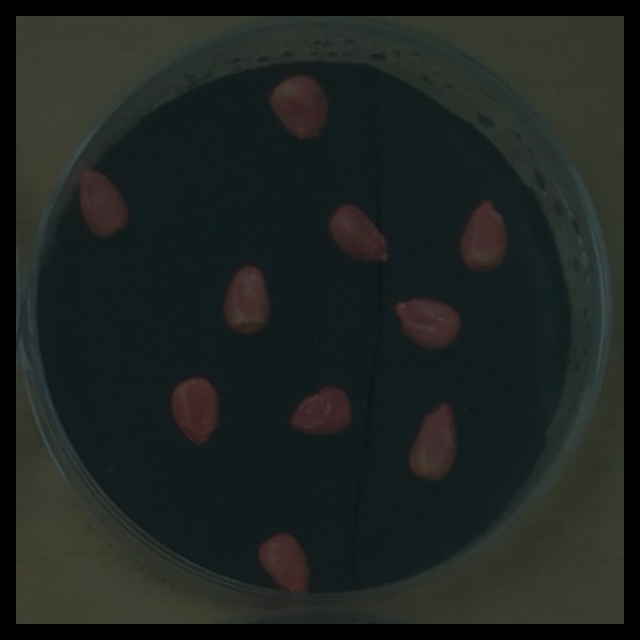Zea mays: (401, 397, 464, 489), (262, 68, 335, 147), (387, 291, 469, 358), (321, 198, 396, 271), (72, 159, 136, 244), (453, 194, 514, 280), (215, 259, 278, 342), (251, 528, 317, 603), (164, 372, 225, 453), (283, 380, 358, 443)
